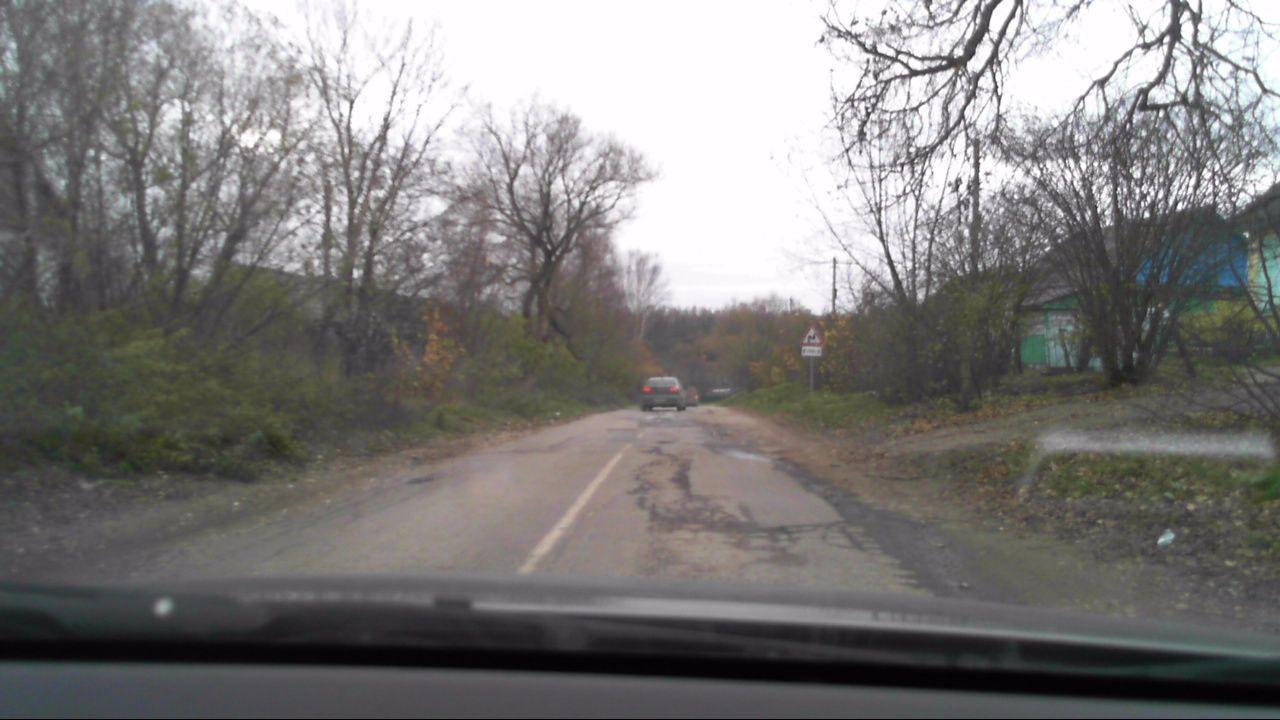1_12_1: (802, 326, 819, 344)
8_2_1: (802, 346, 825, 357)
